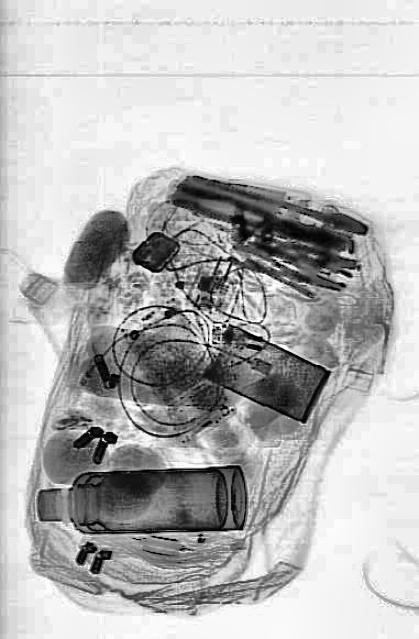Pliers: (171, 176, 346, 256)
